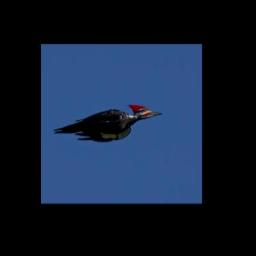Woodpecker: (53, 104, 163, 141)
